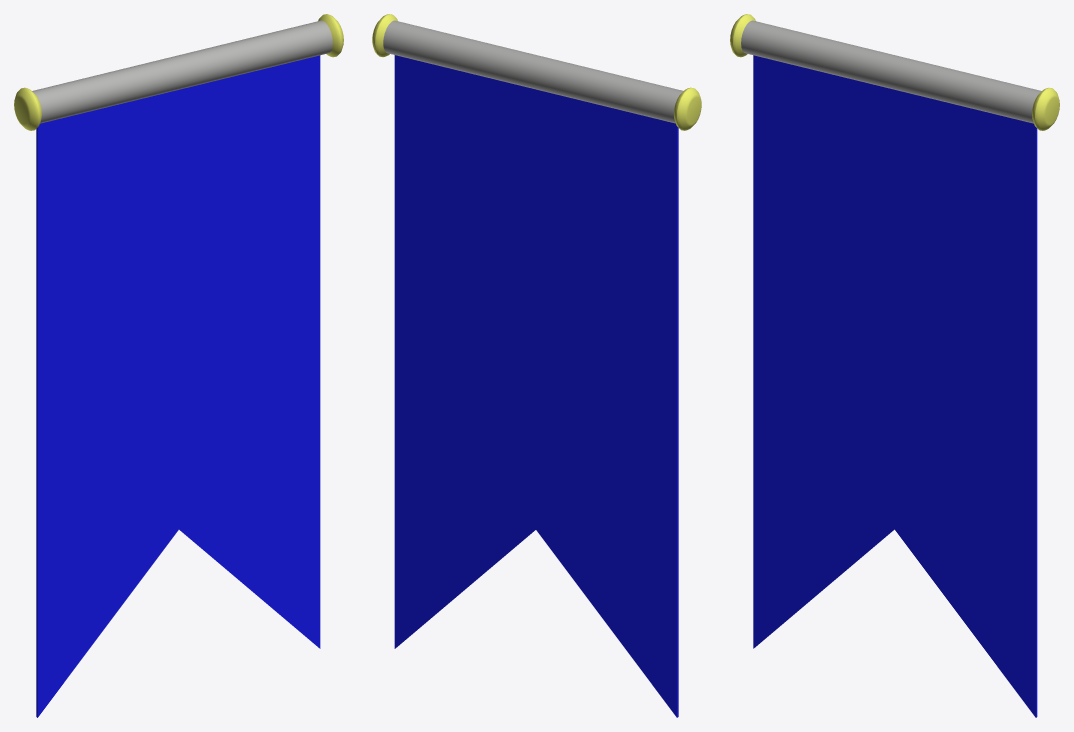
File: stendardo mago texturizzato finale.fbx
3 renders of one model, left to right at view 1: azimuth 30°, elevation 25°; view 2: azimuth 150°, elevation 25°; view 3: azimuth 330°, elevation 25°, orthographic.
Parts seen in each view (by area): view 1: pCylinder1; view 2: pCylinder1; view 3: pCylinder1.
Boxes of the visible parts, left/top/right/bottom form: pCylinder1: left=14, top=14, right=343, bottom=717; pCylinder1: left=372, top=14, right=701, bottom=717; pCylinder1: left=730, top=14, right=1059, bottom=717.
Size of the model in its own units: 21.67 by 41.46 by 2.64.
